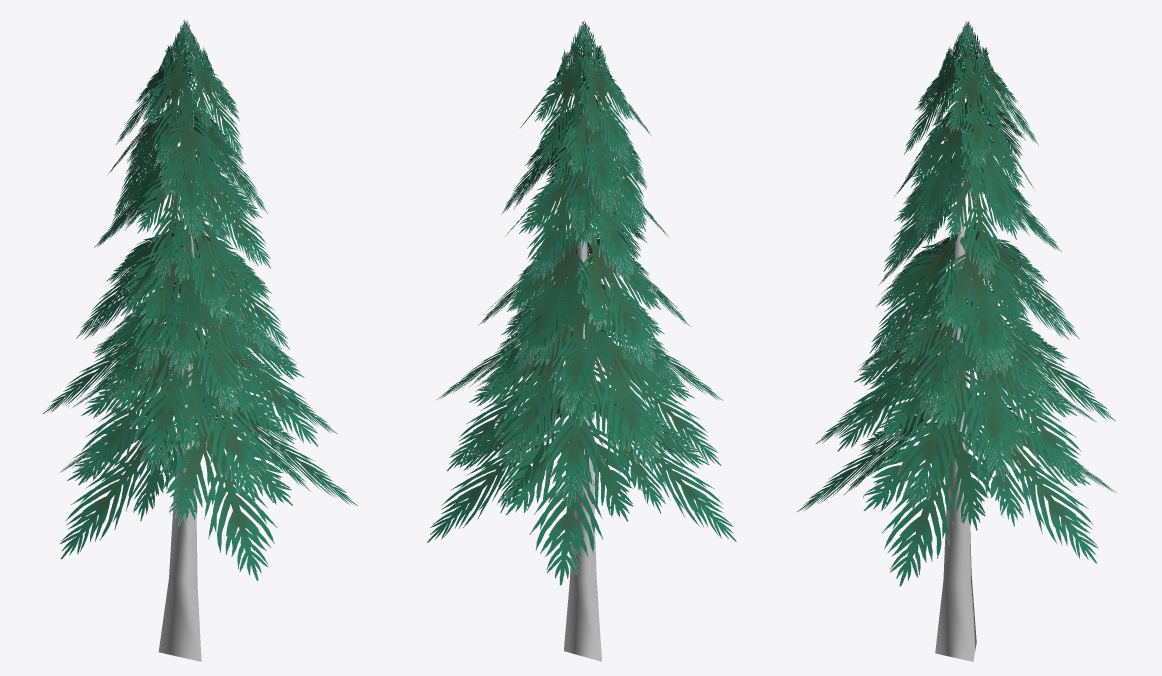
Rendered from pine_tree_LOD1.fbx.
The picture shows the model from 3 angles, left to right: view 1: azimuth 30°, elevation 25°; view 2: azimuth 150°, elevation 25°; view 3: azimuth 270°, elevation 25°; orthographic projection.
Parts seen in each view (by area): view 1: polySurface186; view 2: polySurface186; view 3: polySurface186.
Part boxes in pixels (x1,y1,x2,y2): polySurface186: [43, 20, 357, 661]; polySurface186: [427, 20, 736, 661]; polySurface186: [797, 21, 1117, 661].
Bounding box in the file's own units: 2.25 × 4.4 × 2.26.
